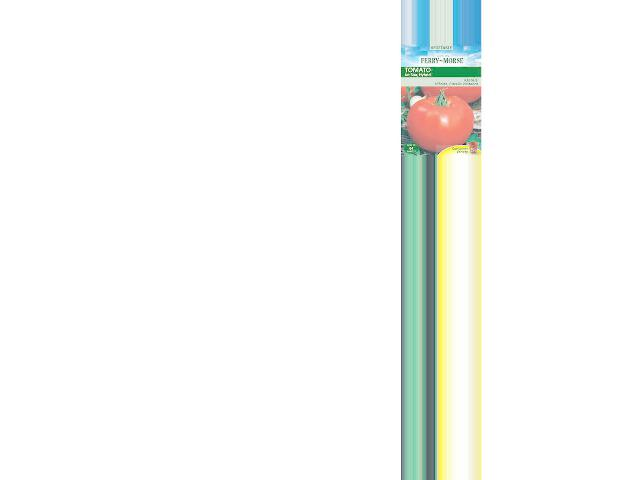tomato: (407, 96, 473, 152)
